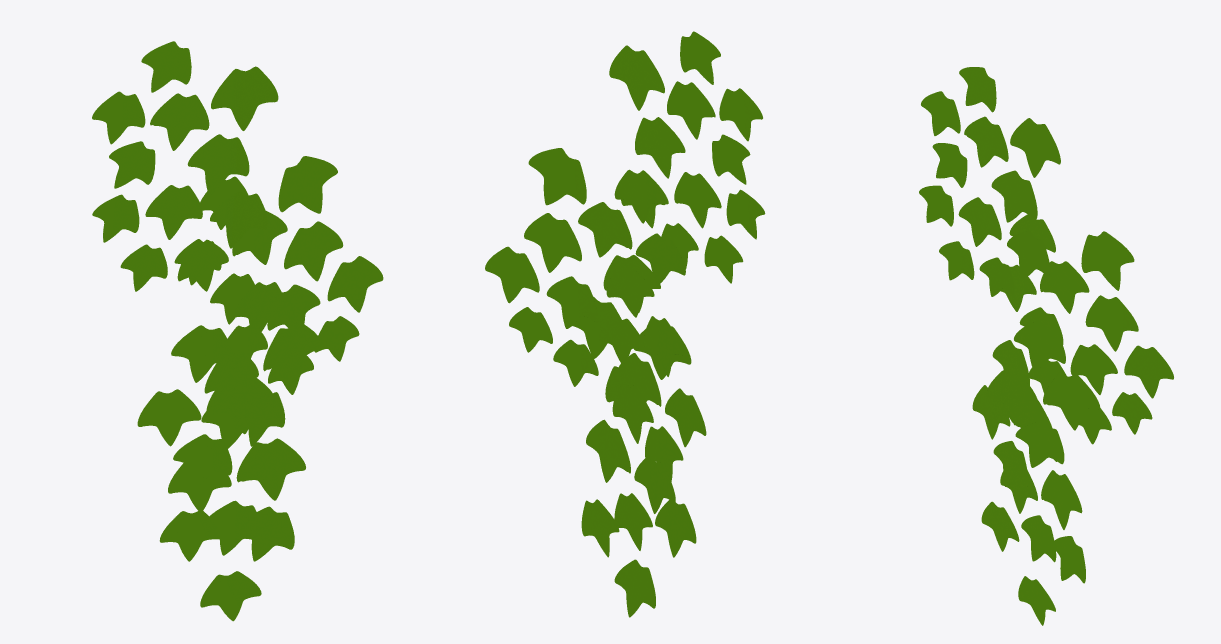
File: prop_vine4.glb
The picture shows the model from 3 angles, left to right: view 1: azimuth 30°, elevation 25°; view 2: azimuth 150°, elevation 25°; view 3: azimuth 330°, elevation 25°; orthographic projection. The views are drawn at different scales.
Visible parts, largest first — view 1: Prop_Vine4; view 2: Prop_Vine4; view 3: Prop_Vine4.
Part boxes in pixels (x1,y1,x2,y2): Prop_Vine4: [92, 41, 383, 621]; Prop_Vine4: [485, 31, 765, 617]; Prop_Vine4: [919, 67, 1173, 625].
Size of the model in its own units: 1.02 by 1.59 by 0.15.
Materials: 1 (1 with a texture image).
